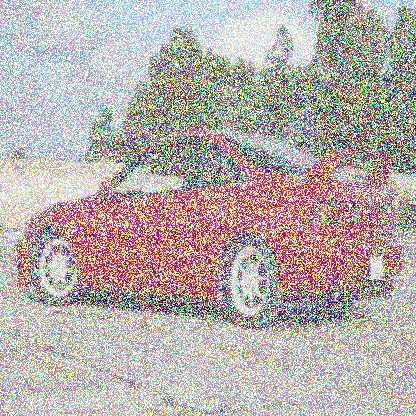Vehicle: (13, 128, 408, 330)
